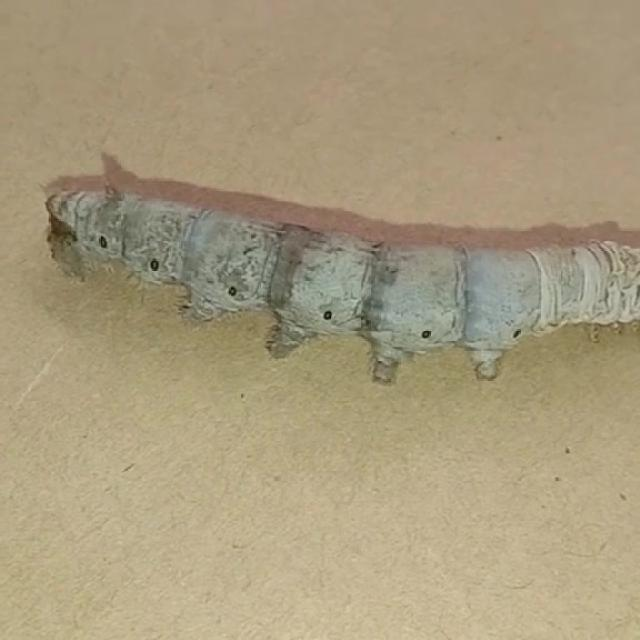Grasserie: (19, 149, 640, 389)
